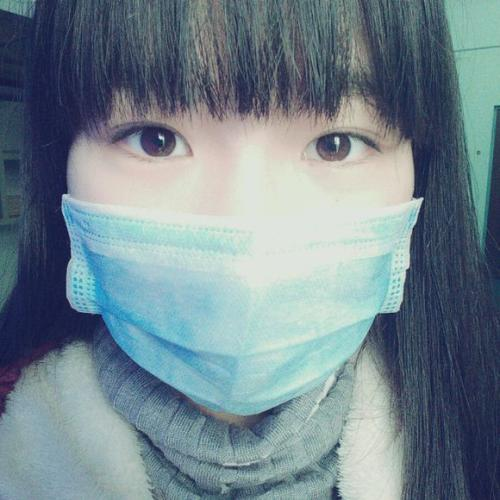mask: (51, 188, 418, 408)
